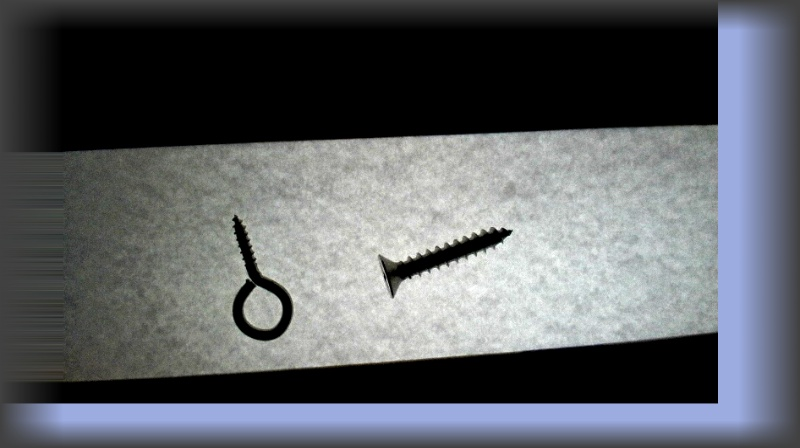O001: (217, 209, 295, 342)
S001: (374, 224, 515, 299)
